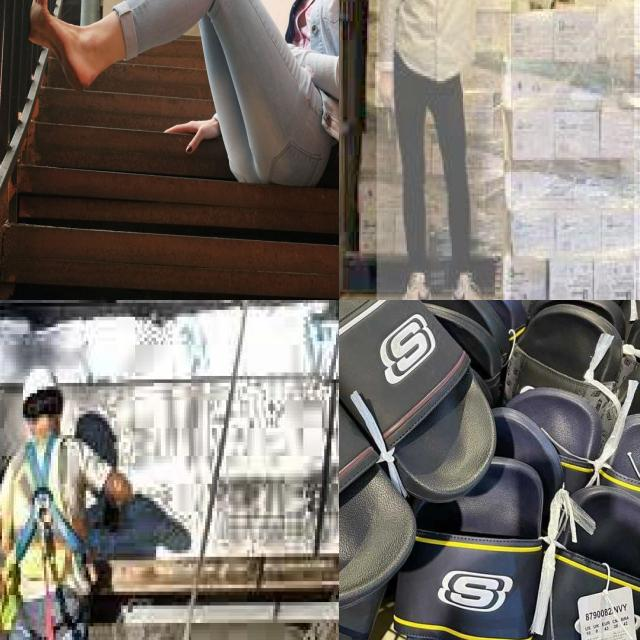Barefoots: (27, 0, 92, 92)
Harness: (1, 433, 90, 596)
Sandals: (339, 300, 535, 627)
hand_noglove: (375, 62, 396, 110)
person: (376, 0, 512, 300)
shoes: (392, 265, 440, 300), (447, 263, 492, 300)
